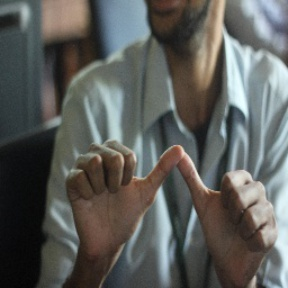A: (68, 135, 279, 254)
